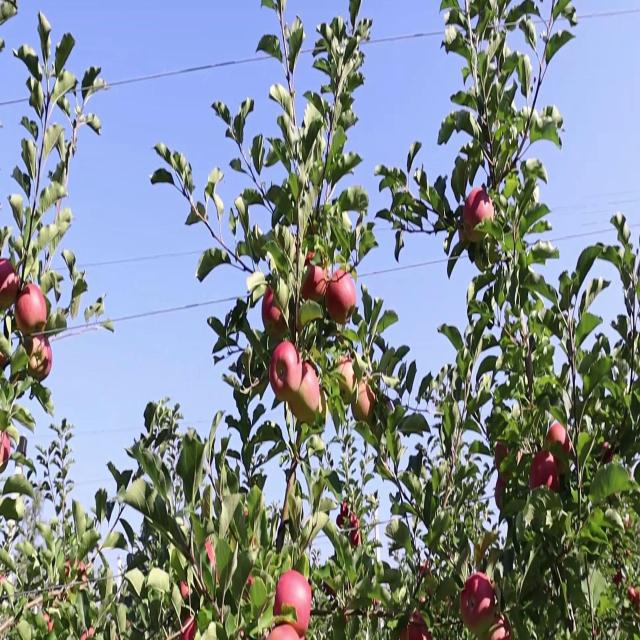apple: (272, 568, 312, 638), (460, 575, 497, 636), (292, 362, 323, 427), (272, 341, 301, 405), (16, 284, 48, 340), (328, 270, 358, 327), (464, 191, 495, 245), (300, 255, 330, 306), (260, 284, 287, 340), (532, 447, 561, 492), (28, 334, 53, 384), (352, 376, 376, 425), (0, 263, 21, 315), (548, 419, 572, 460), (304, 392, 328, 430), (336, 362, 356, 405), (408, 611, 429, 639), (496, 476, 510, 516), (496, 440, 512, 471), (492, 618, 512, 639), (600, 440, 615, 466), (180, 618, 198, 639), (628, 590, 640, 615), (4, 433, 12, 469), (44, 611, 55, 633), (5, 577, 7, 581)
